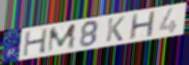4: (158, 6, 179, 35)
8: (79, 20, 100, 48)
H: (127, 10, 156, 42), (22, 27, 50, 58)
K: (104, 15, 127, 44)
M: (46, 23, 77, 55)
